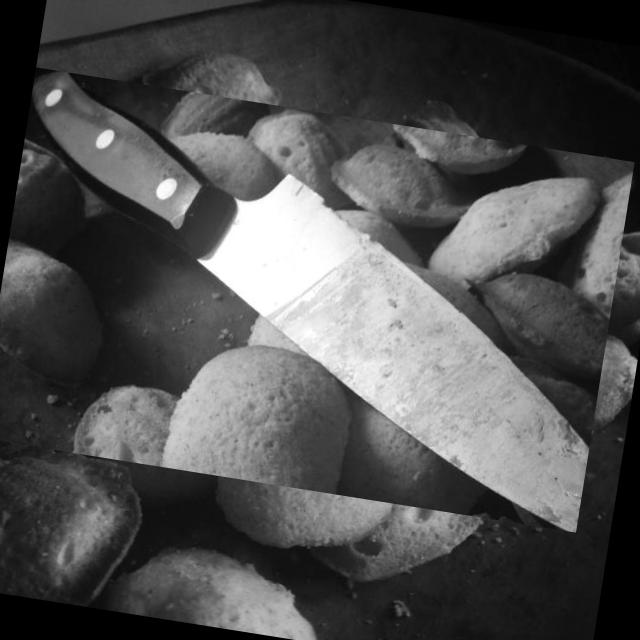Knife: (32, 73, 589, 533)
